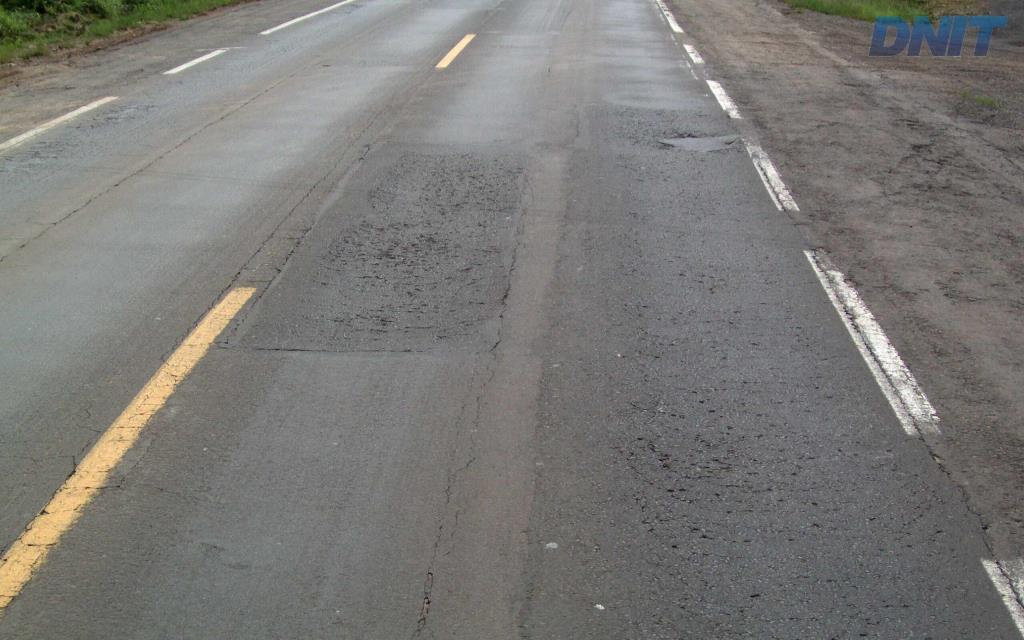crack: (372, 240, 414, 271)
